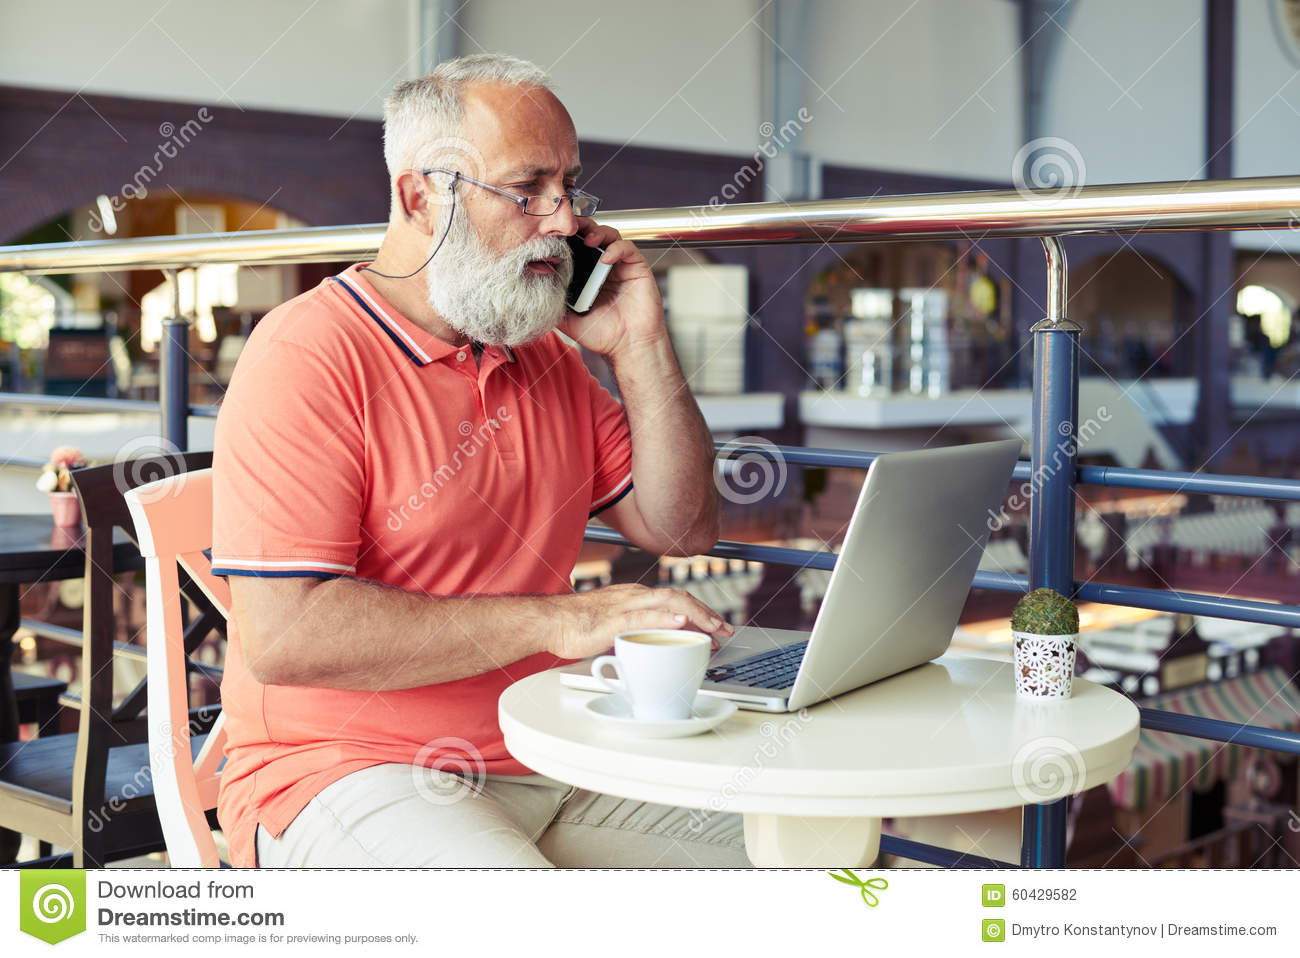talk: (488, 153, 662, 366)
